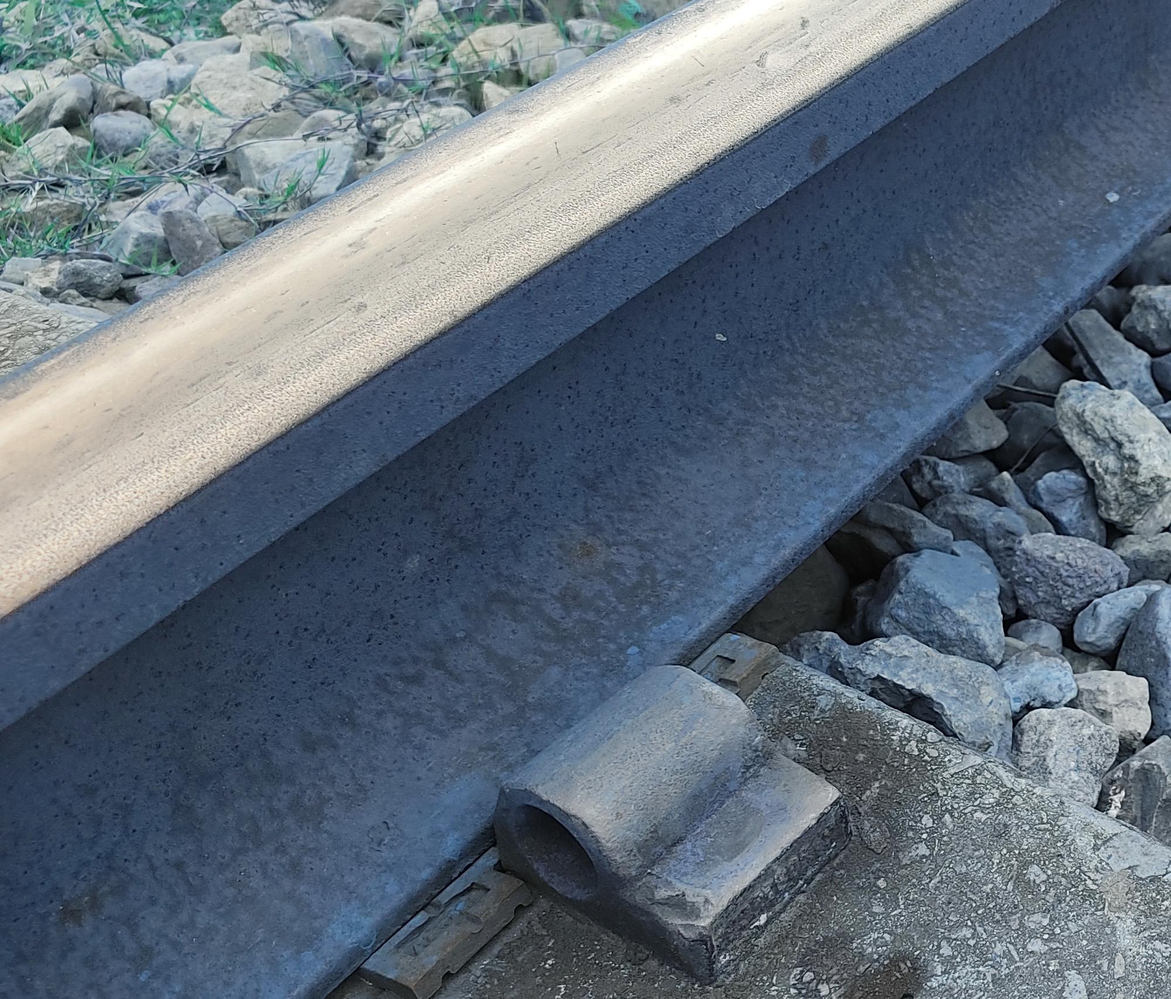loss: (462, 645, 889, 979)
